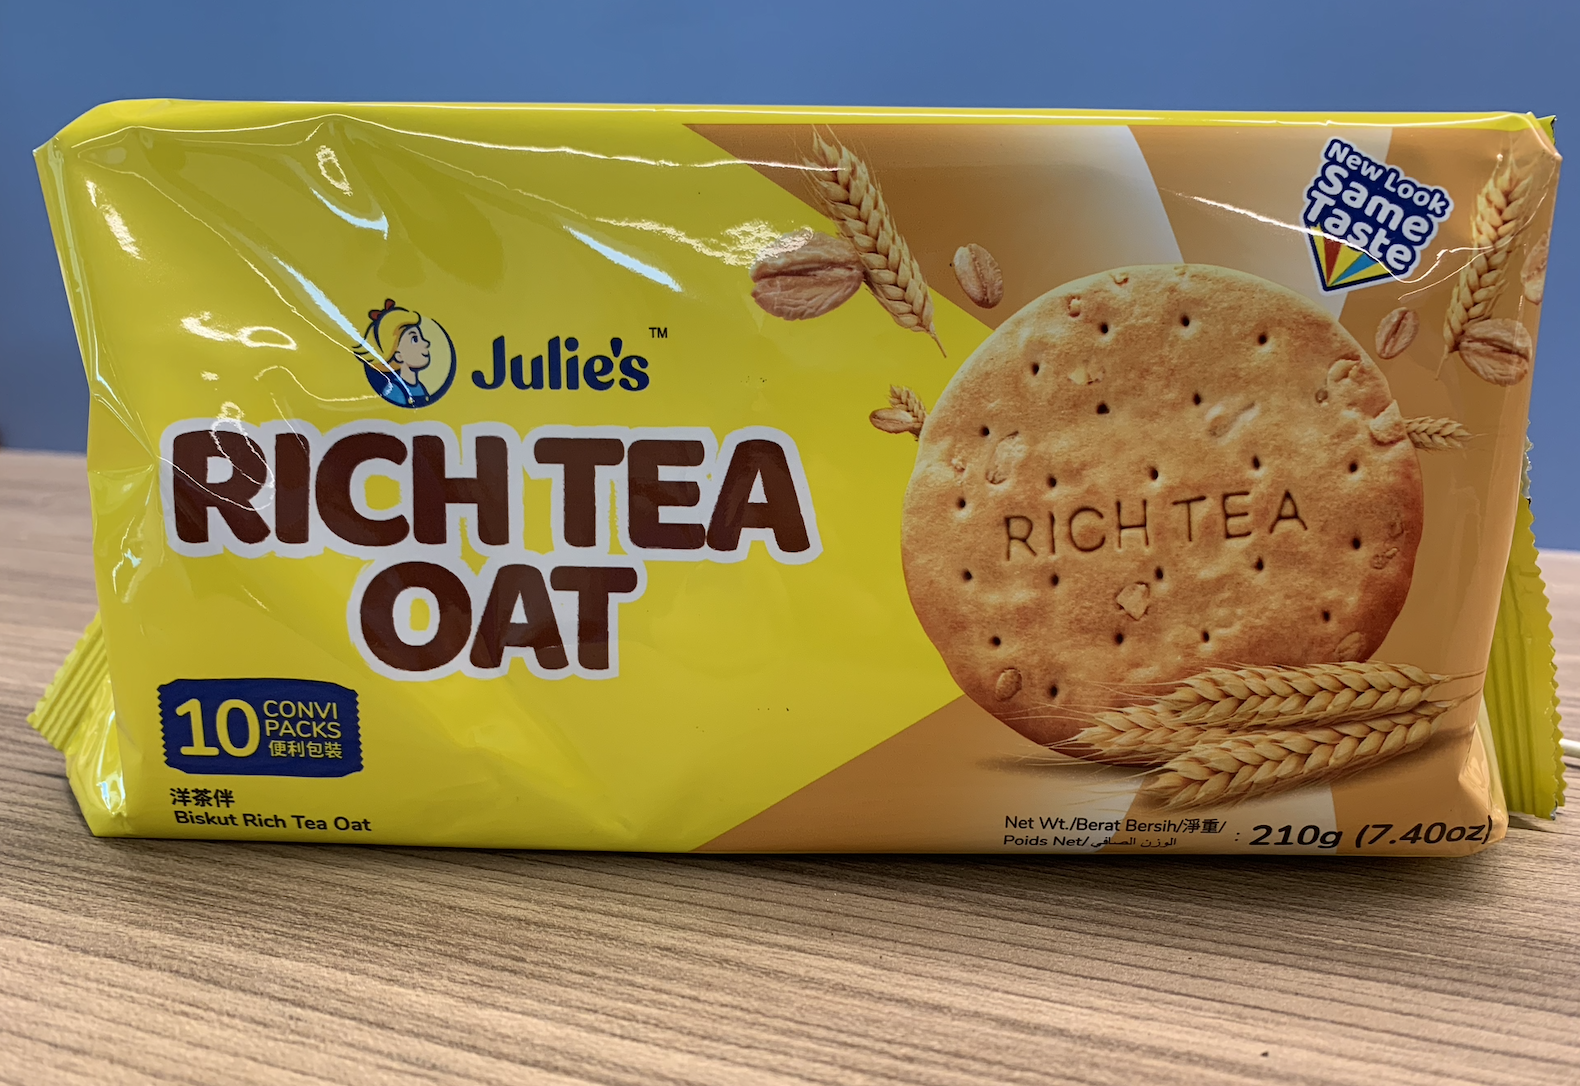cookies_200g-299g: (107, 134, 1512, 859)
